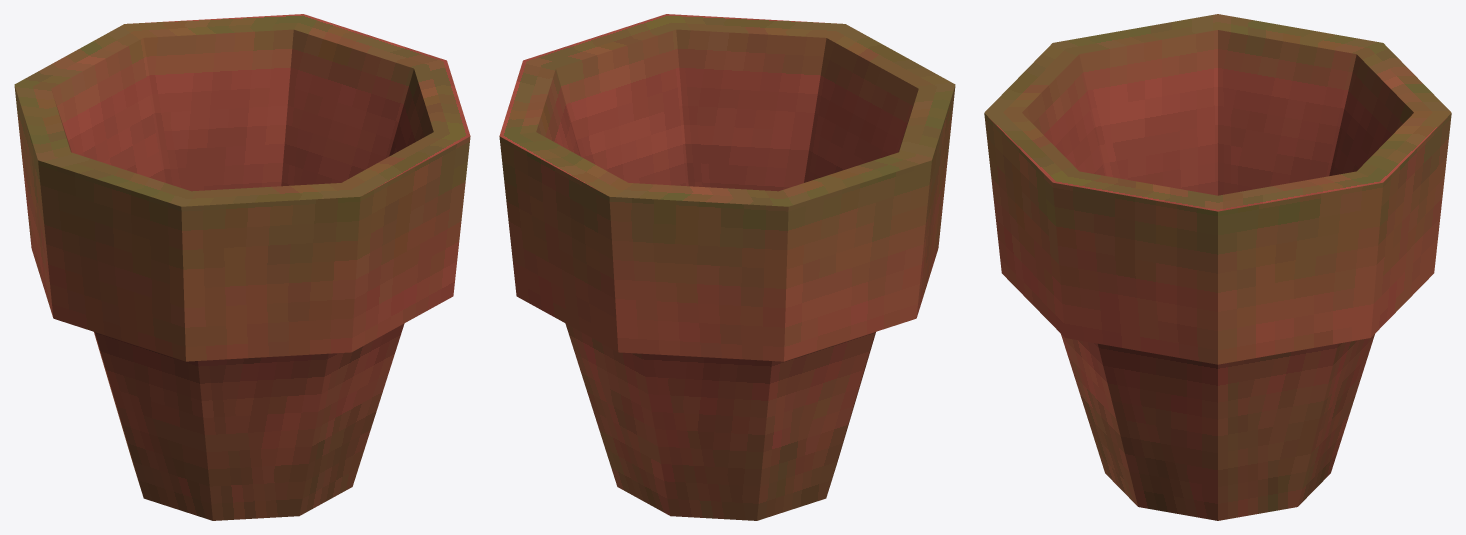
Rendered from skemptyplantpotmesh.obj.
3 renders of one model, left to right at view 1: azimuth 30°, elevation 25°; view 2: azimuth 150°, elevation 25°; view 3: azimuth 270°, elevation 25°, orthographic.
Size of the model in its own units: 10.79 by 9.18 by 10.79.
Materials: 1 (1 with a texture image).
